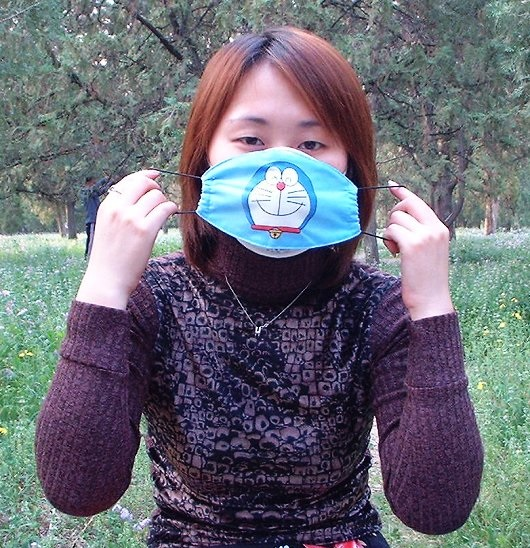face_mask: (205, 66, 348, 259)
